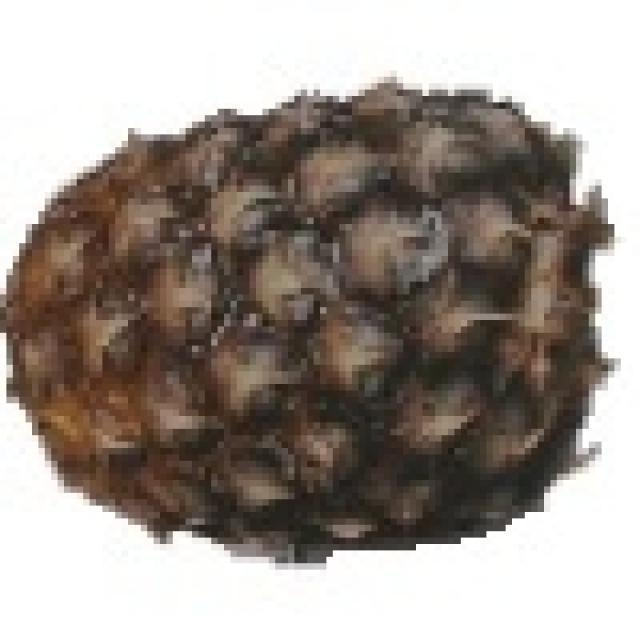pineapple: (0, 77, 602, 544)
